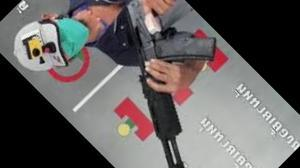larga: (115, 0, 217, 168)
